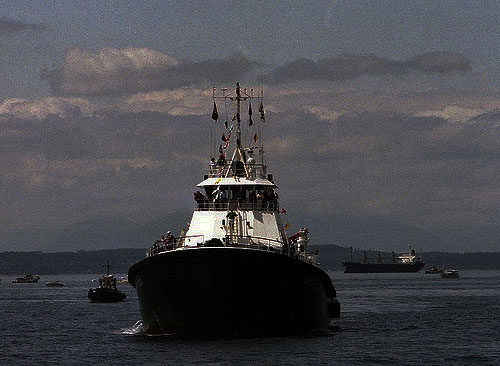bulk carrier: (344, 246, 422, 272)
tug_boat: (130, 77, 343, 334)
